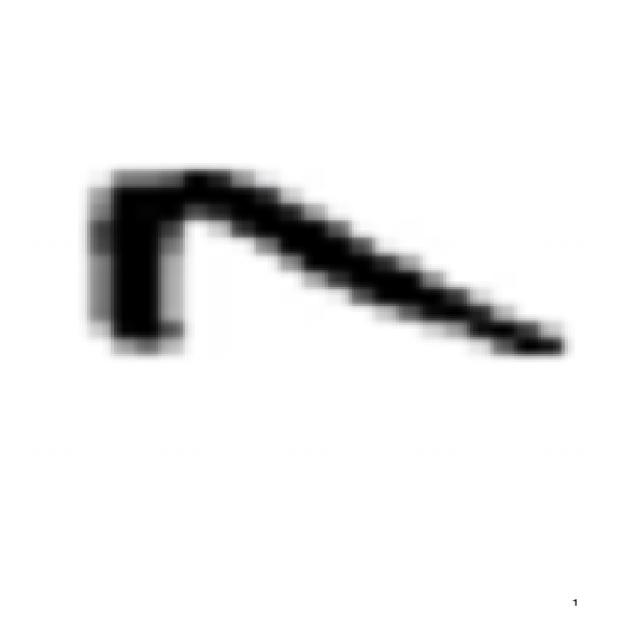8 -eight-: (59, 150, 591, 373)
